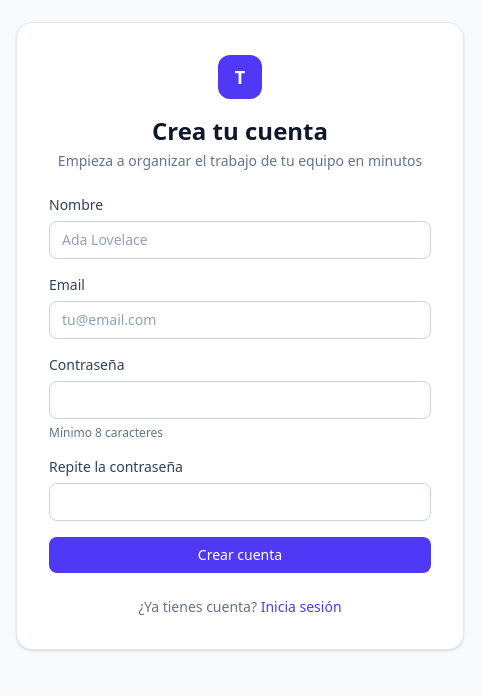
Test: RegisterPage › muestra errores si el formulario está vacío
Click the button "Crear cuenta" at (240, 555), box x1=49 y1=537 x2=431 y2=573
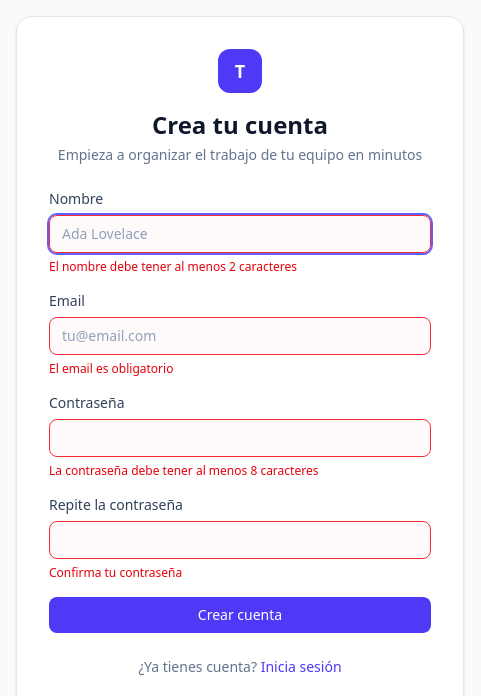
Now the text "El nombre debe tener al menos 2 caracteres" is shown, box x1=49 y1=258 x2=297 y2=275
Now the text "El email es obligatorio" is shown, box x1=49 y1=360 x2=173 y2=377
Now the text "La contraseña debe tener al menos 8 caracteres" is shown, box x1=49 y1=462 x2=318 y2=479
